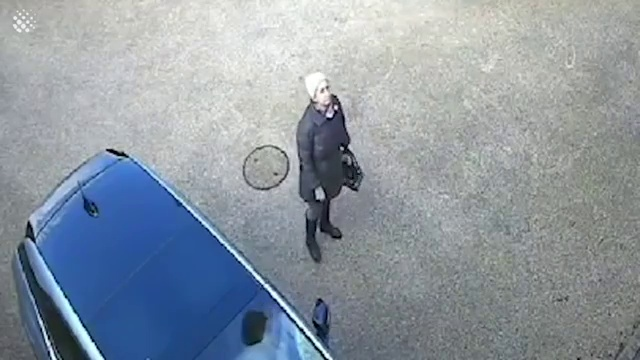face: (313, 82, 335, 105)
